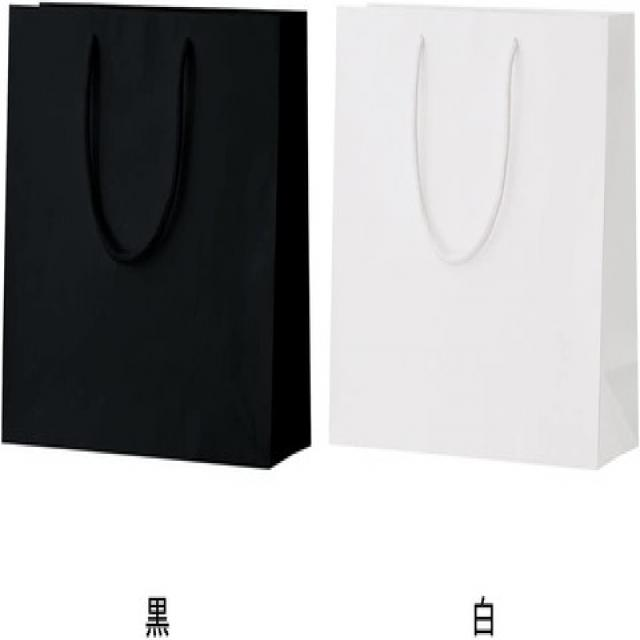paper bag: (330, 4, 640, 475), (4, 2, 312, 472)
